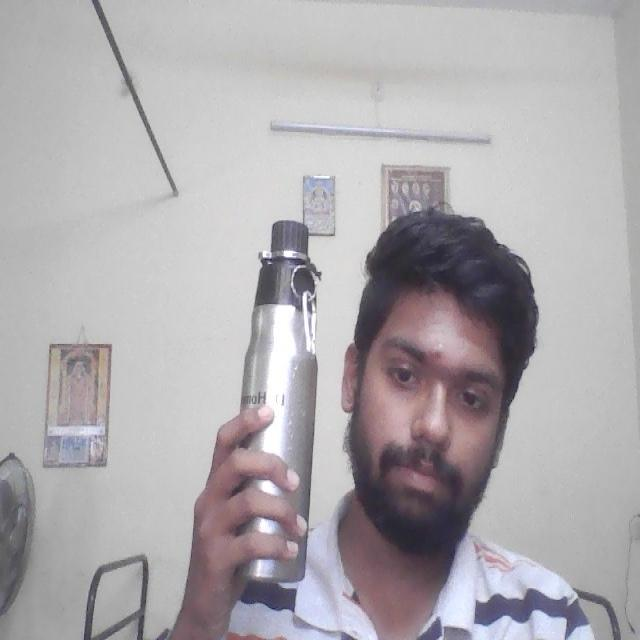Drinking: (238, 210, 327, 583)
